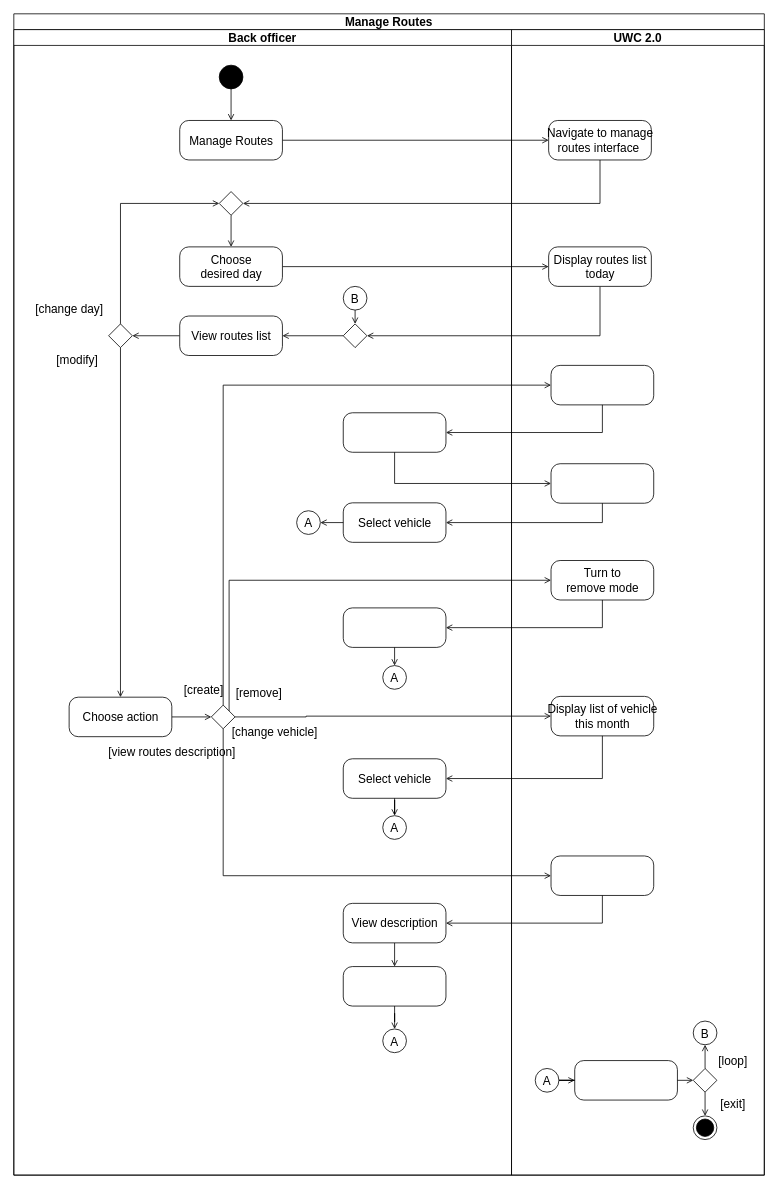
The diagram is 778 pixels wide and 1189 high, and some of its shapes have lost their labels. Each missing label, with the centre of its shape:
"Display description of routes" goes at (x=602, y=875).
"Display list of MCPs need to be collected" goes at (x=602, y=385).
"Display list of vehicles this month" goes at (x=602, y=483).
"Edit routes description" goes at (x=394, y=986).
"Select MCPs for a route" goes at (x=394, y=432).
"Select routes want to remove" goes at (x=394, y=627).
"Update data" goes at (x=625, y=1080).
